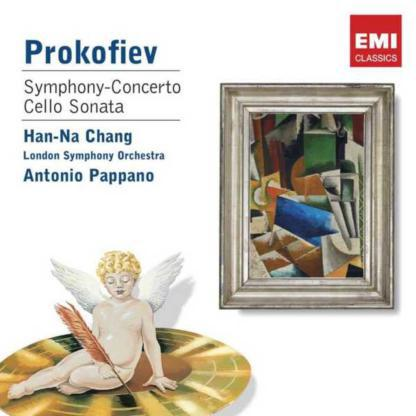Picture-frame: (216, 76, 402, 315)
